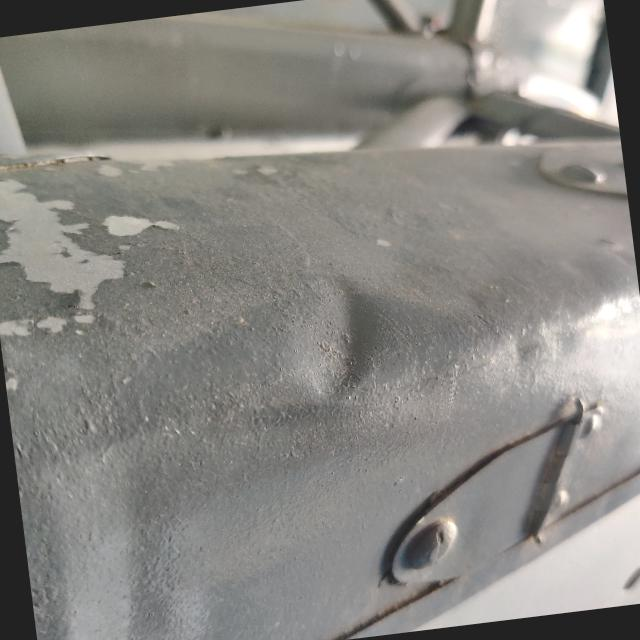dent: (268, 251, 408, 423)
